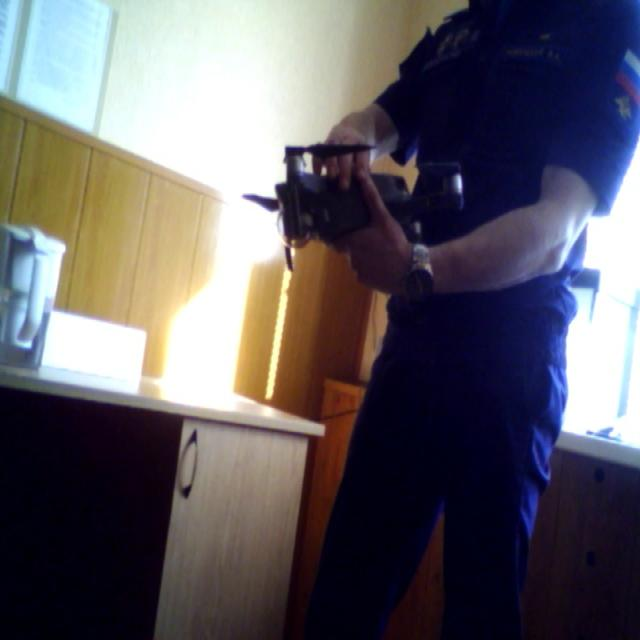drone: (243, 131, 490, 268)
